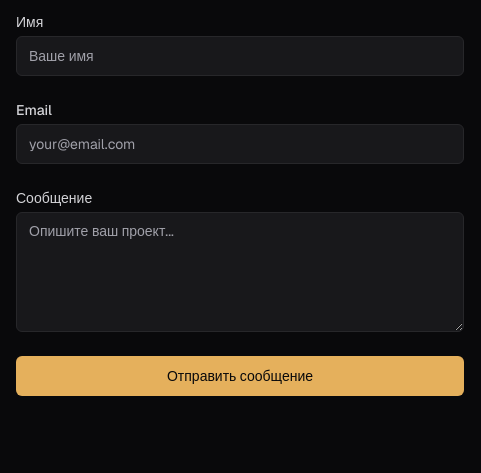
Test: ContactForm › shows validation errors for empty or invalid fields
This screenshot has width=481, height=473.
Click the button with test id "submit-btn": (240, 376) [16,356,464,396]
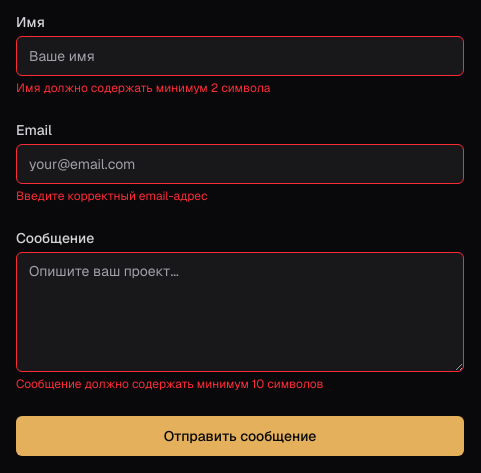
expect the text "Имя должно содержать минимум 2 символа" is shown: met, box [16,80,270,96]
expect the text "Введите корректный email-адрес" is shown: met, box [16,188,208,204]
expect the text "Сообщение должно содержать минимум 10 символов" is shown: met, box [16,376,324,392]
